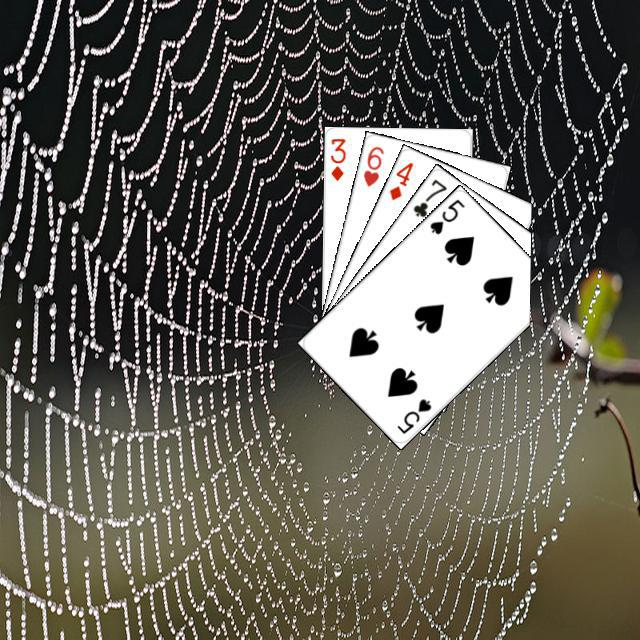3d: (325, 133, 347, 182)
4d: (384, 157, 415, 202)
5s: (392, 393, 433, 436), (425, 194, 466, 236)
6h: (358, 141, 386, 188)
7c: (408, 174, 448, 219)
